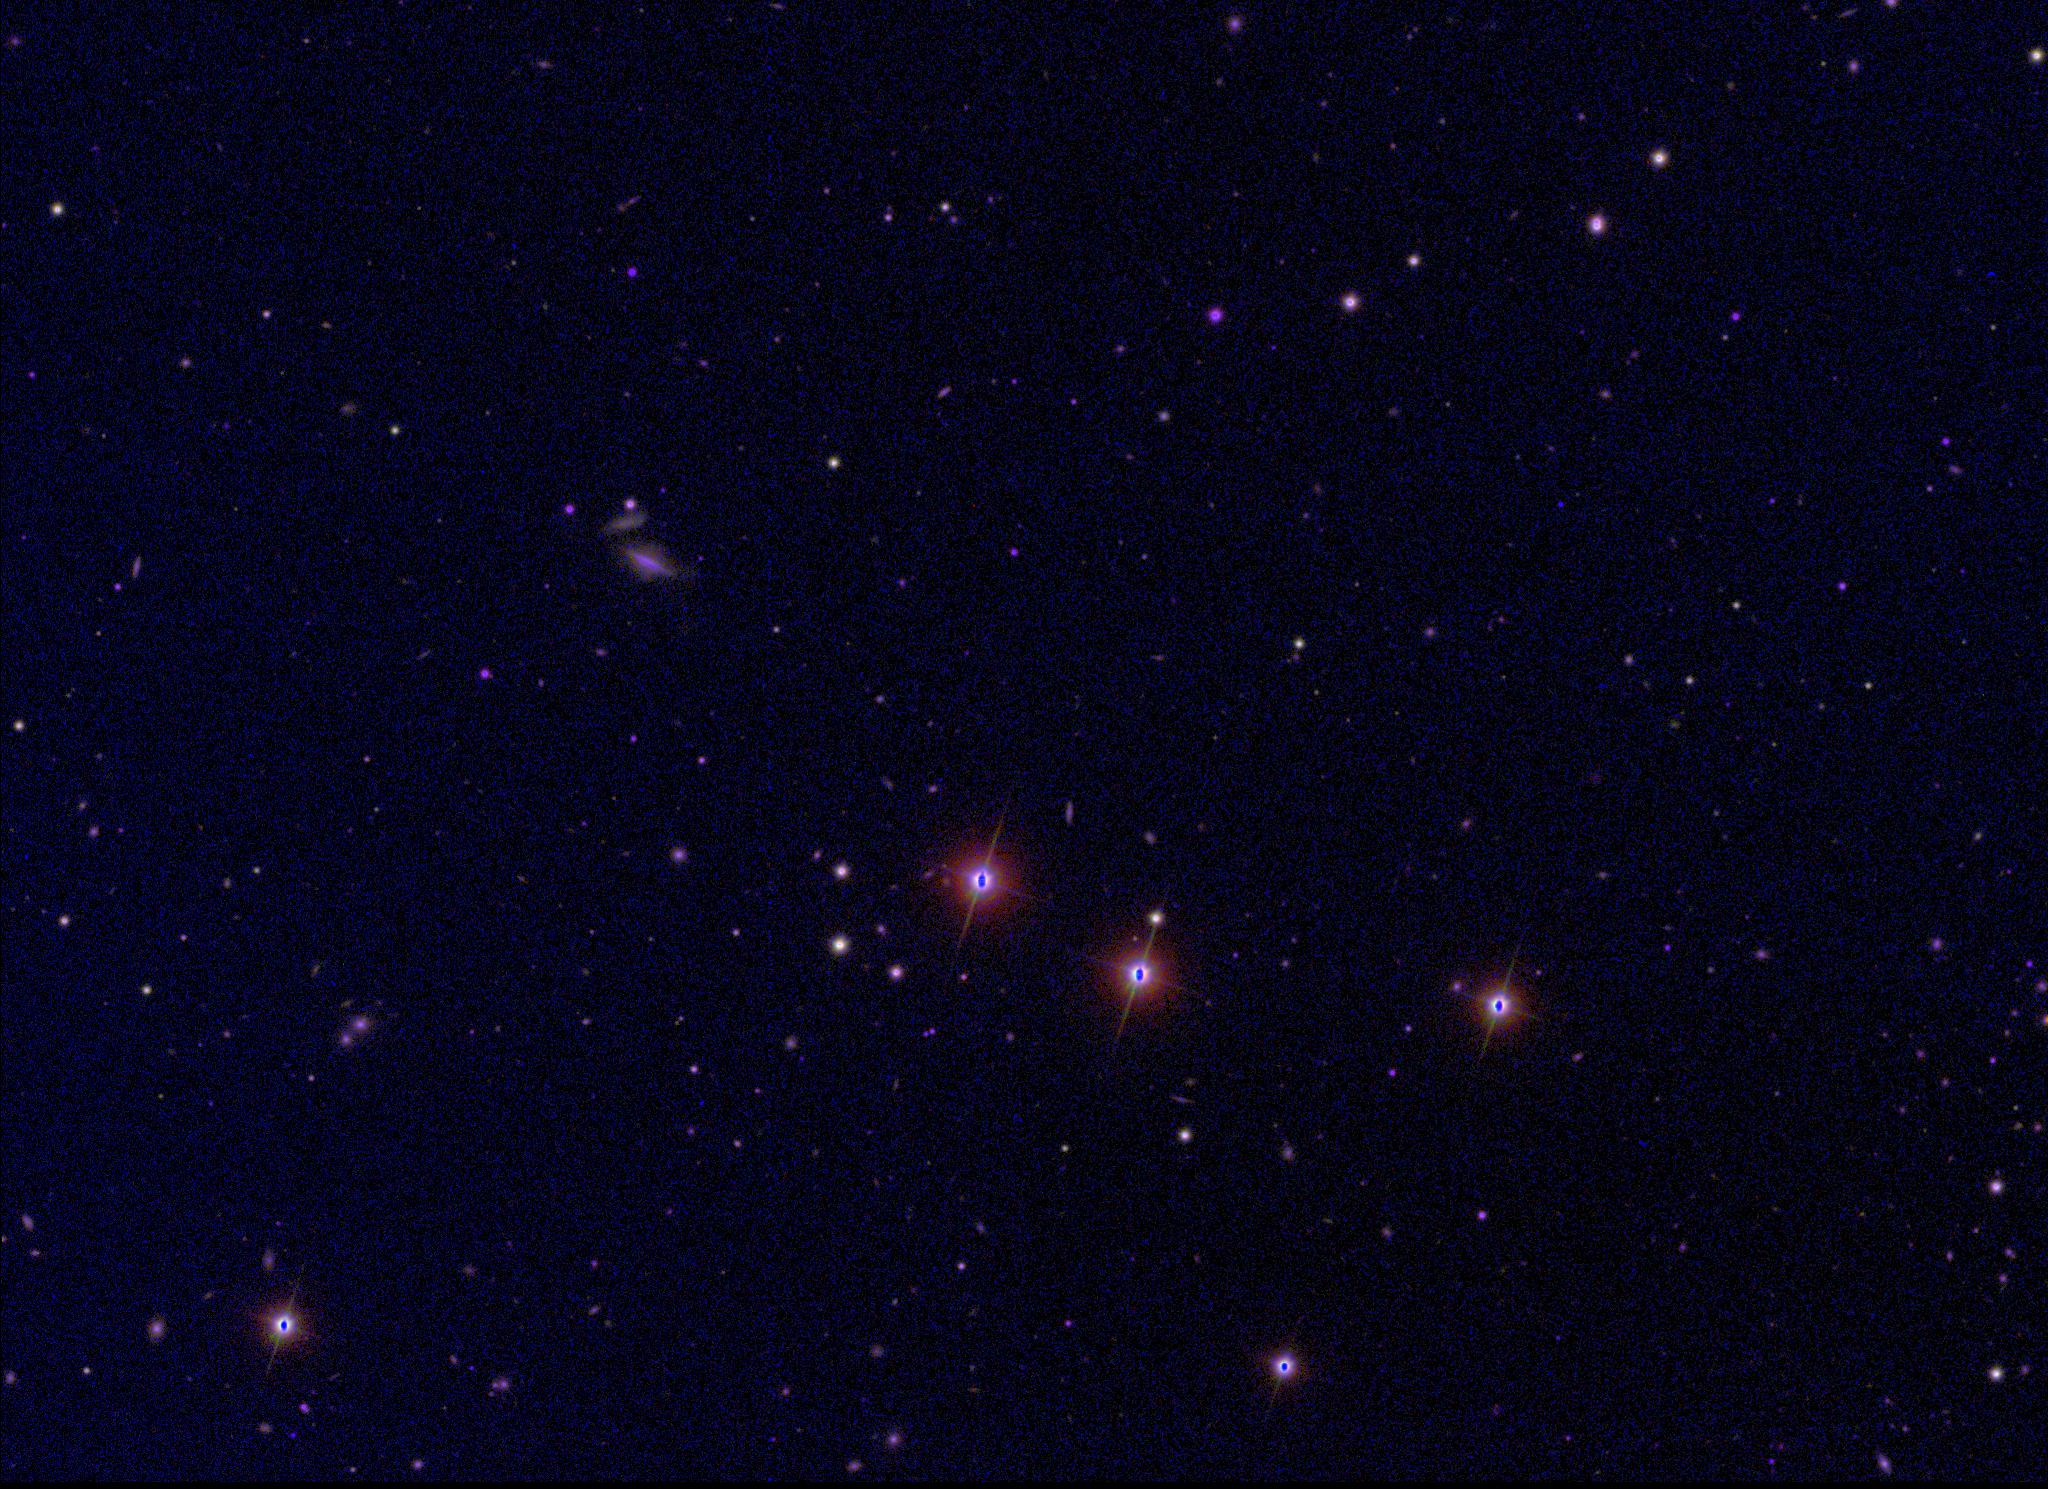L: (1553, 496, 1566, 511)
